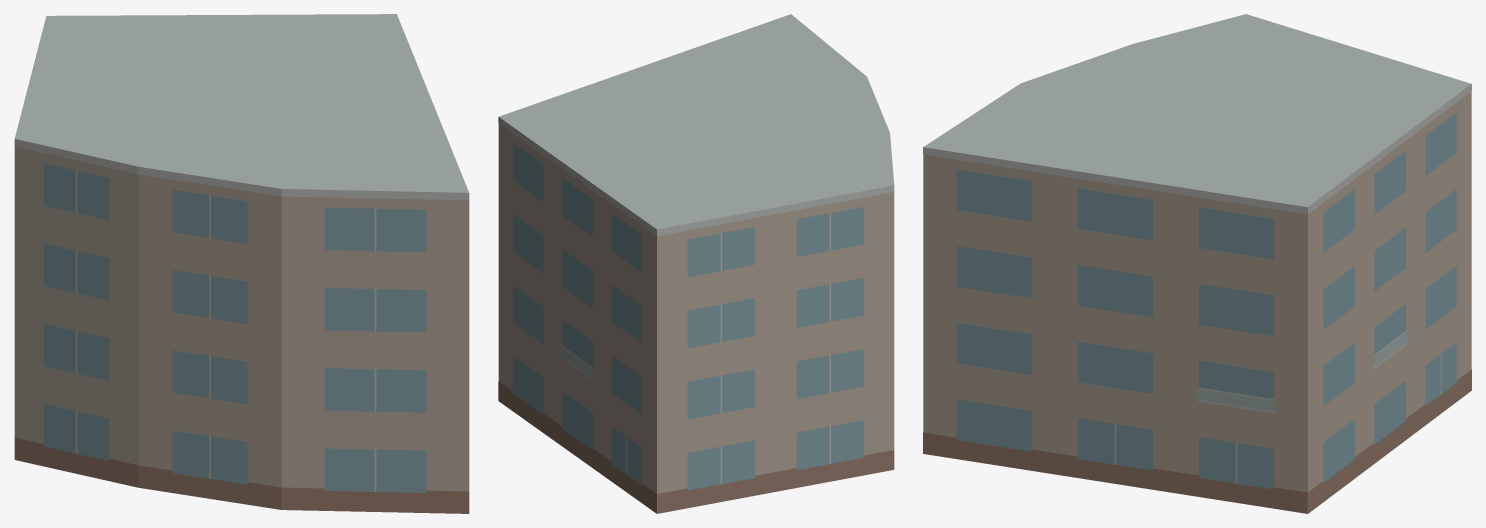
The model's file is survey-upis-32922305.glb.
3 views of the same model, side by side, from view 1: azimuth 30°, elevation 25°; view 2: azimuth 150°, elevation 25°; view 3: azimuth 270°, elevation 25° (orthographic). The views are drawn at different scales.
Parts seen in each view (by area): view 1: survey-upis-32922305.tmp; view 2: survey-upis-32922305.tmp; view 3: survey-upis-32922305.tmp.
Boxes of the visible parts, x1,y1,x2,y2 form: survey-upis-32922305.tmp: (14, 14, 469, 513); survey-upis-32922305.tmp: (498, 14, 894, 513); survey-upis-32922305.tmp: (923, 14, 1471, 513).
Size of the model in its own units: 14.06 by 10.4 by 16.87.
